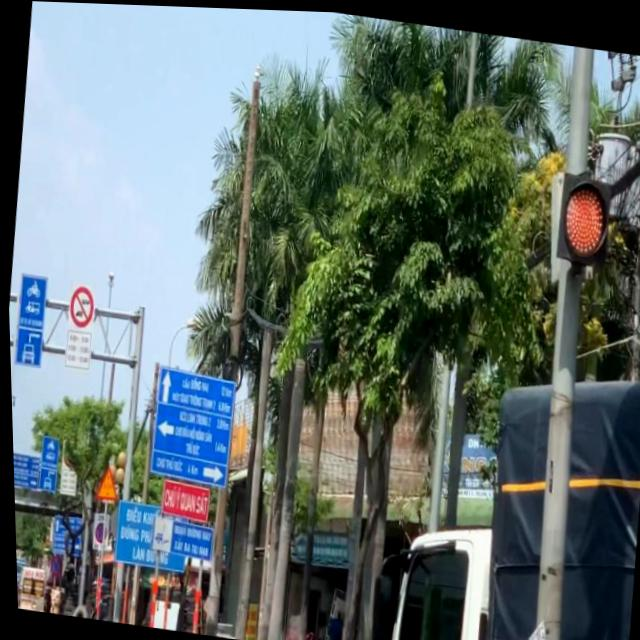Cam dung xe va do xe: (45, 555, 58, 579)
Chieu cao an toan: (91, 462, 118, 502)
